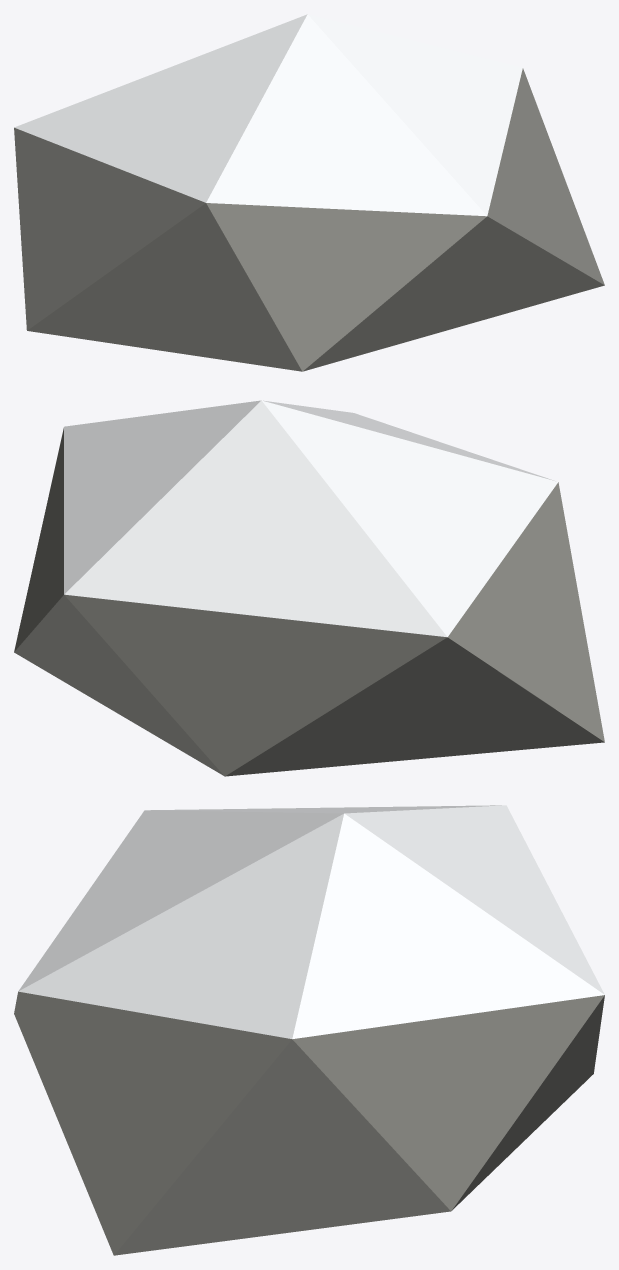
The model's file is SnowyRock.fbx.
3 views of the same model, one above another, from view 1: azimuth 30°, elevation 25°; view 2: azimuth 150°, elevation 25°; view 3: azimuth 270°, elevation 25° (orthographic). The views are drawn at different scales.
Visible parts, largest first — view 1: SnowyRock; view 2: SnowyRock; view 3: SnowyRock.
Part boxes in pixels (<box>): SnowyRock: <box>14,14,604,371</box>; SnowyRock: <box>14,400,604,776</box>; SnowyRock: <box>14,805,604,1255</box>.
Bounding box in the file's own units: 3.81 × 2.43 × 3.14.
Materials: 1 (1 with a texture image).
